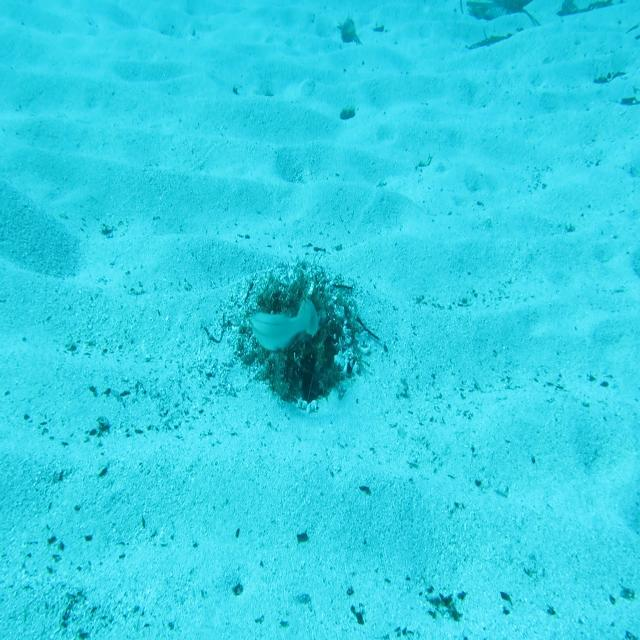DAN_CIRC: (292, 287, 320, 340)
female: (246, 293, 320, 353)
nest: (226, 251, 388, 414)
